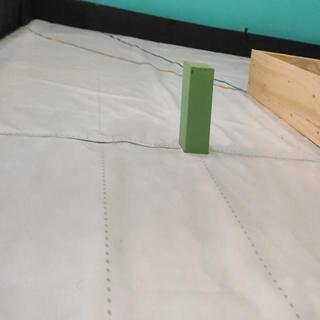greenbox: (181, 61, 216, 154)
